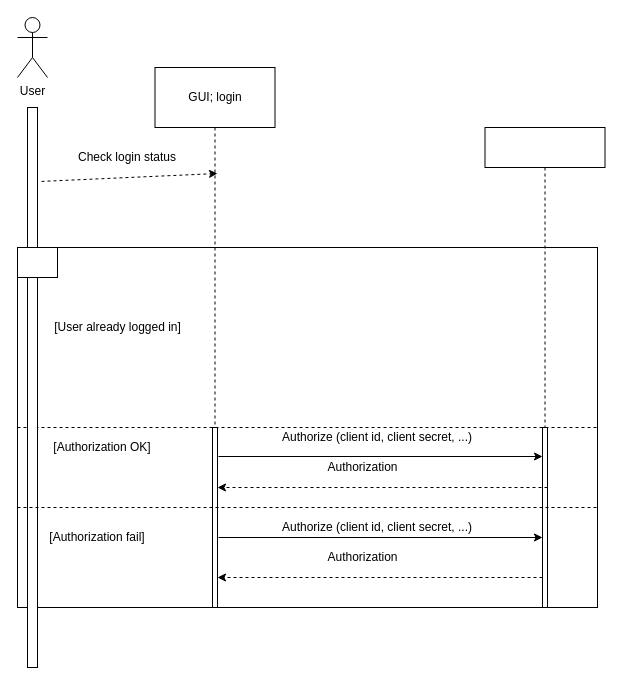
Image size: 623x693. Some labels were removed from this diagram. The shapes that lost their labels are listed below. From the top down, each one's centre as x and y in pixels, then its label:
At pixel 544 147: "Spotify Authorization".
At pixel 37 262: "Alt".
